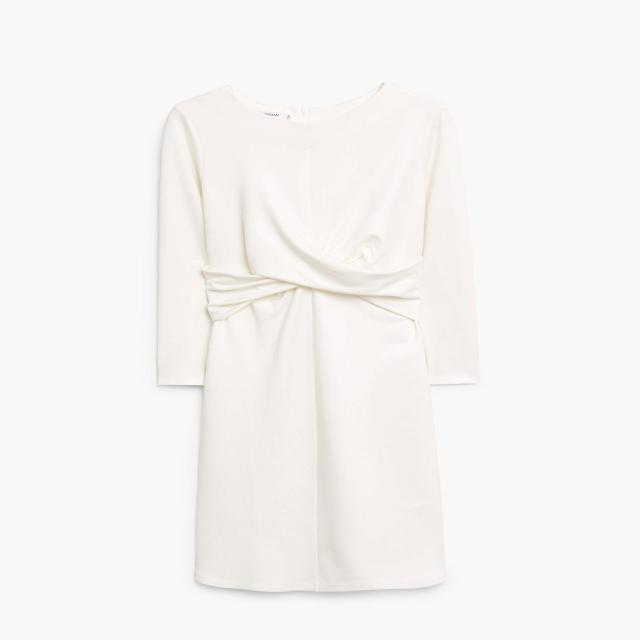Dress: (154, 82, 498, 598)
